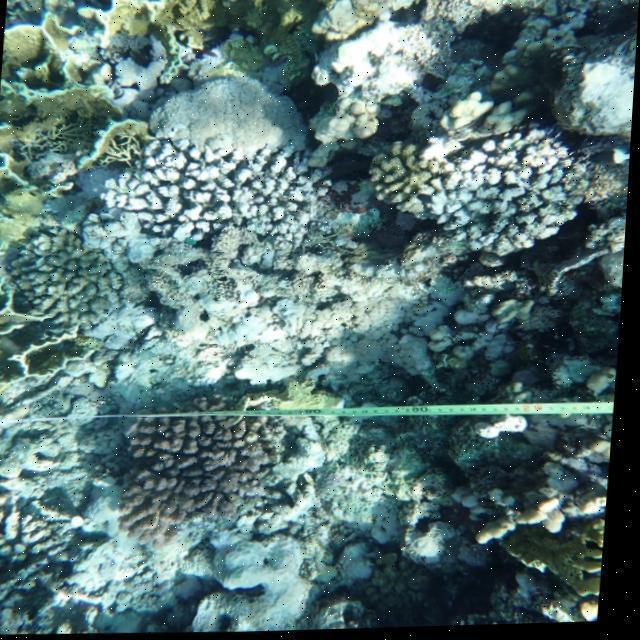Bleached Coral: (99, 126, 327, 259), (407, 112, 591, 267)
Healthy Coral: (112, 412, 303, 533)
